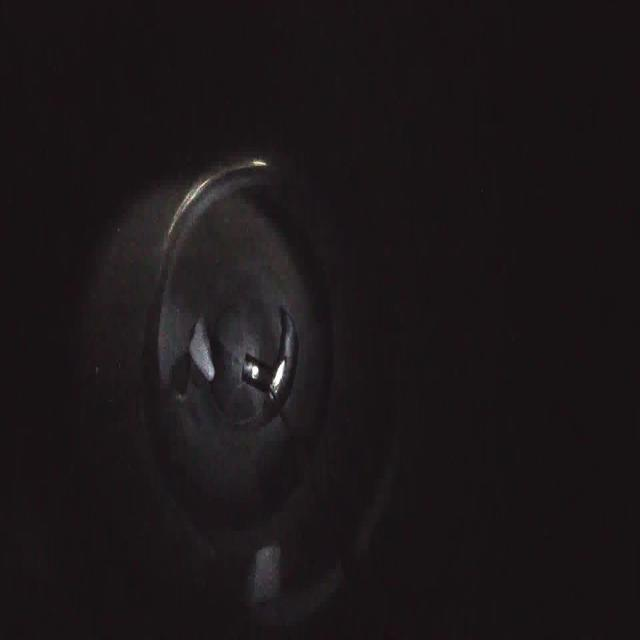impurity: (185, 310, 221, 383)
